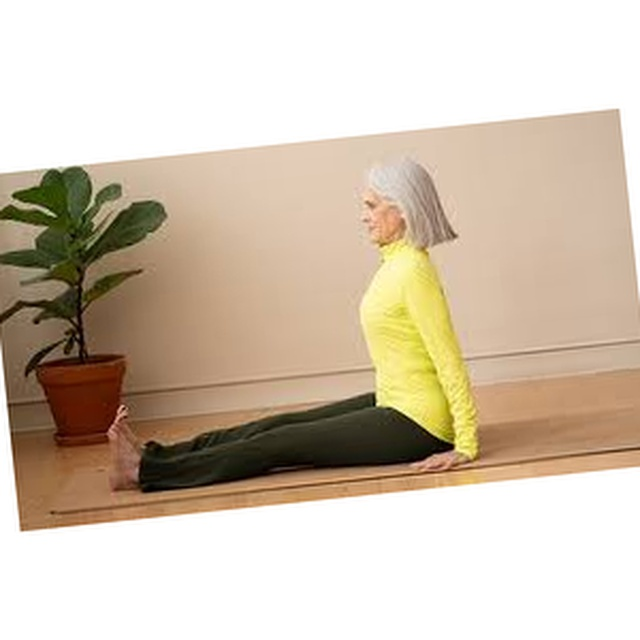Staff_Pose: (107, 154, 482, 496)
